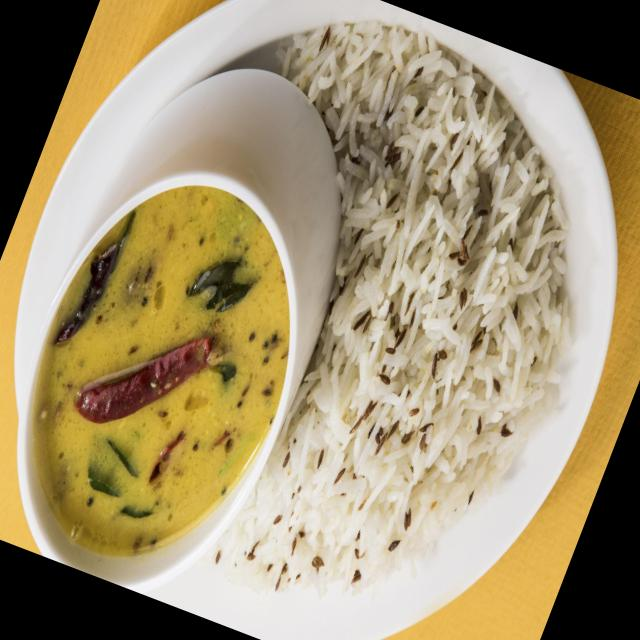dal: (201, 33, 575, 596), (41, 187, 291, 556)
